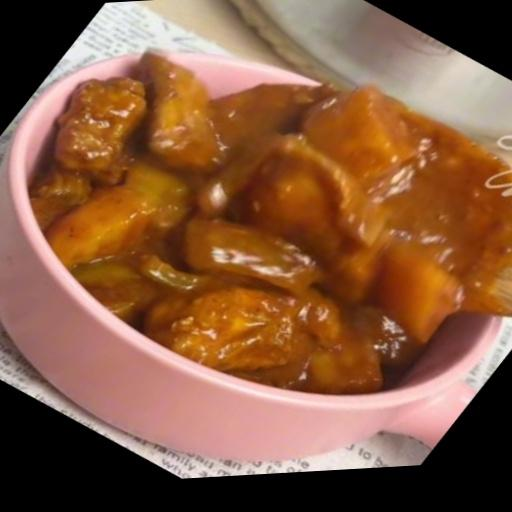pork caldereta: (25, 55, 510, 386)
